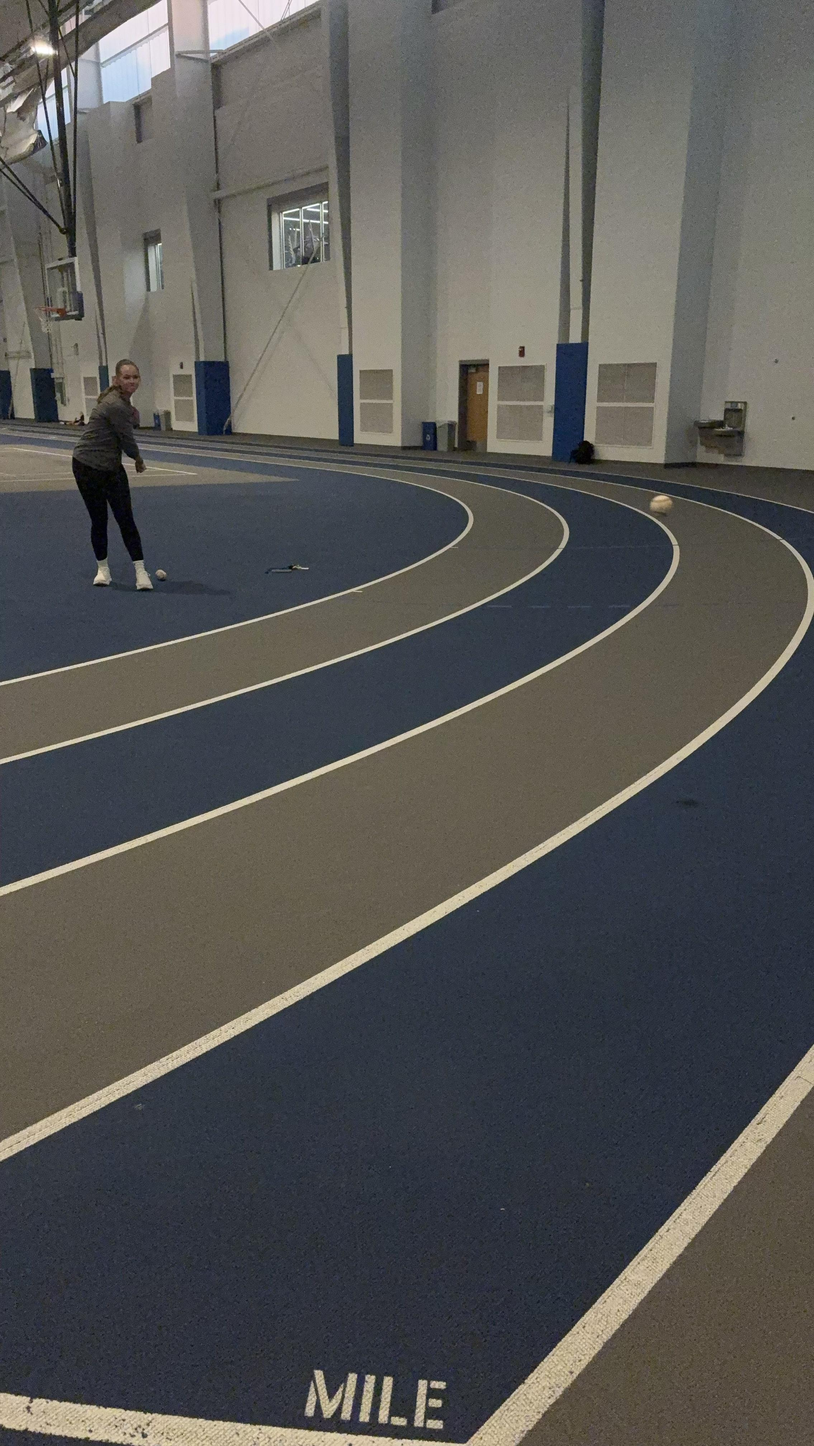Baseball: (649, 492, 675, 517)
